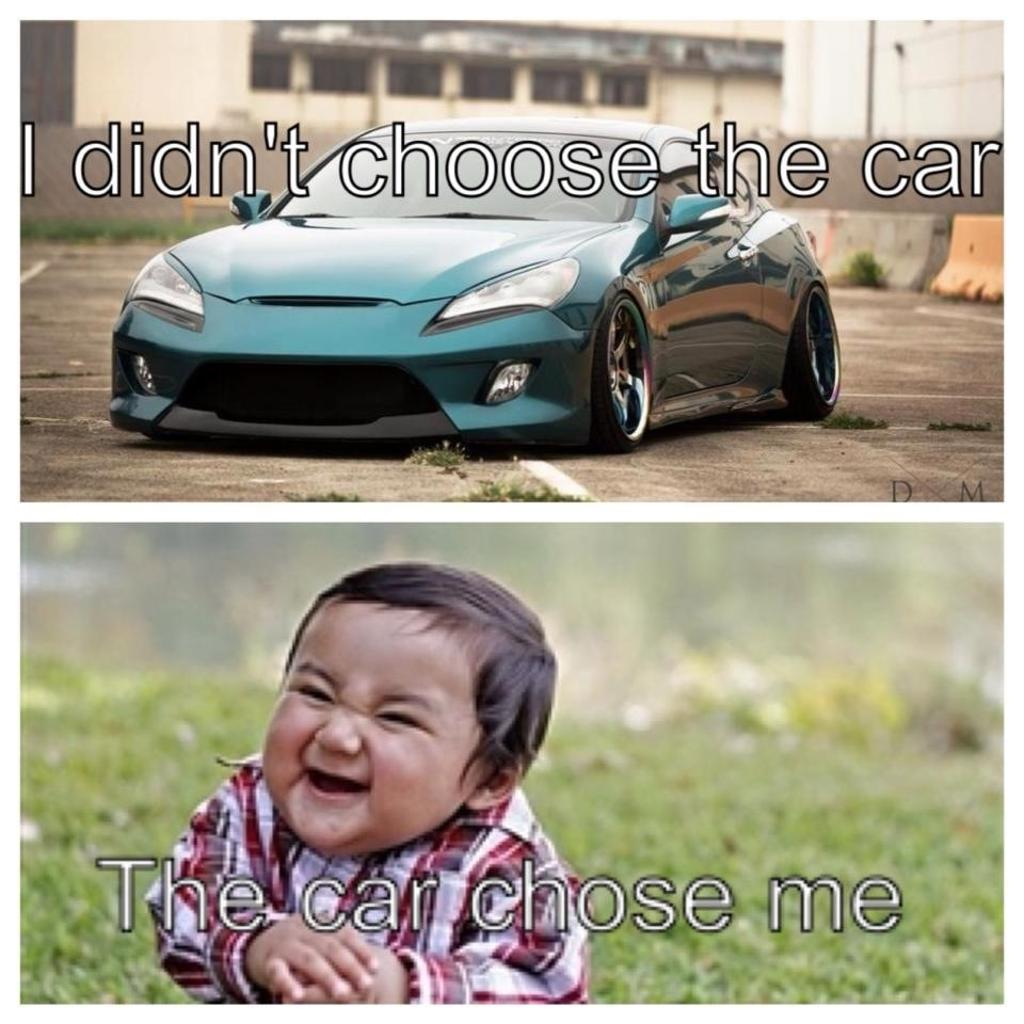face: (260, 598, 480, 848)
